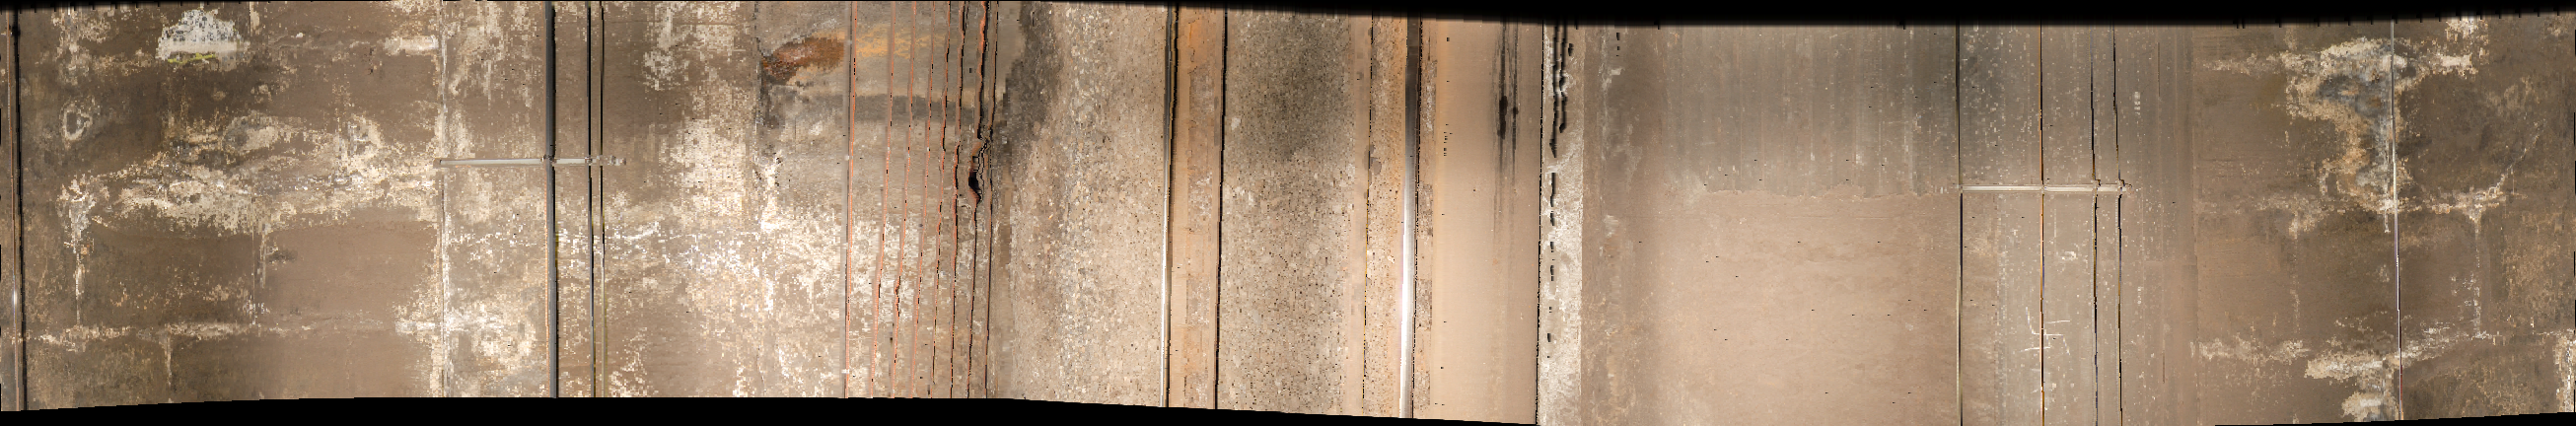pipes: (840, 2, 1014, 426), (1945, 35, 2129, 426), (537, 5, 603, 411)
tracks: (1158, 2, 1536, 426)
